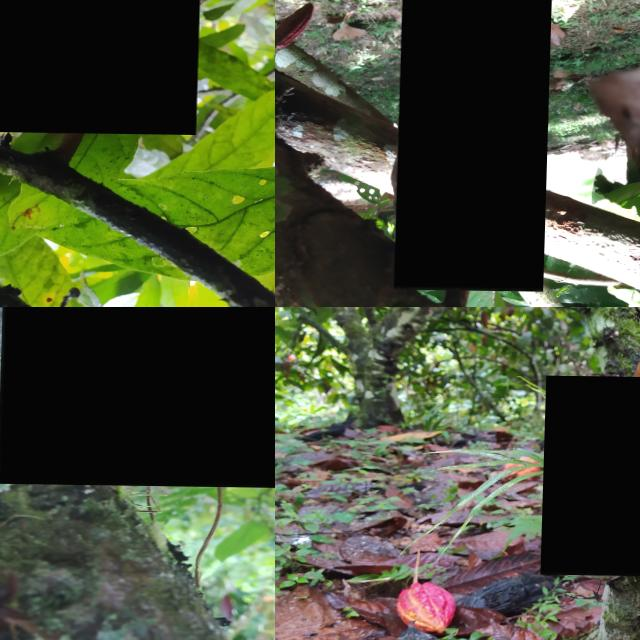Fitoftora: (396, 0, 552, 290)
Monilia: (0, 307, 275, 487), (0, 0, 206, 133), (543, 374, 640, 575)
Sana: (275, 1, 315, 46)
